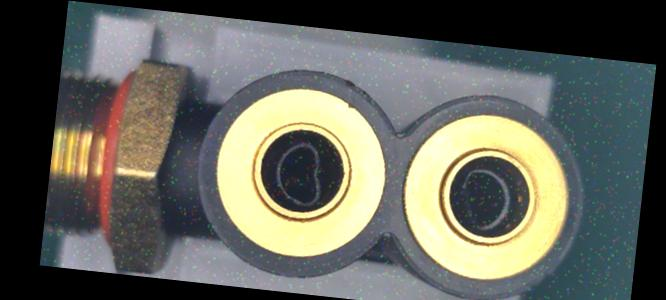off-centered: (262, 132, 334, 211), (445, 163, 519, 236)
